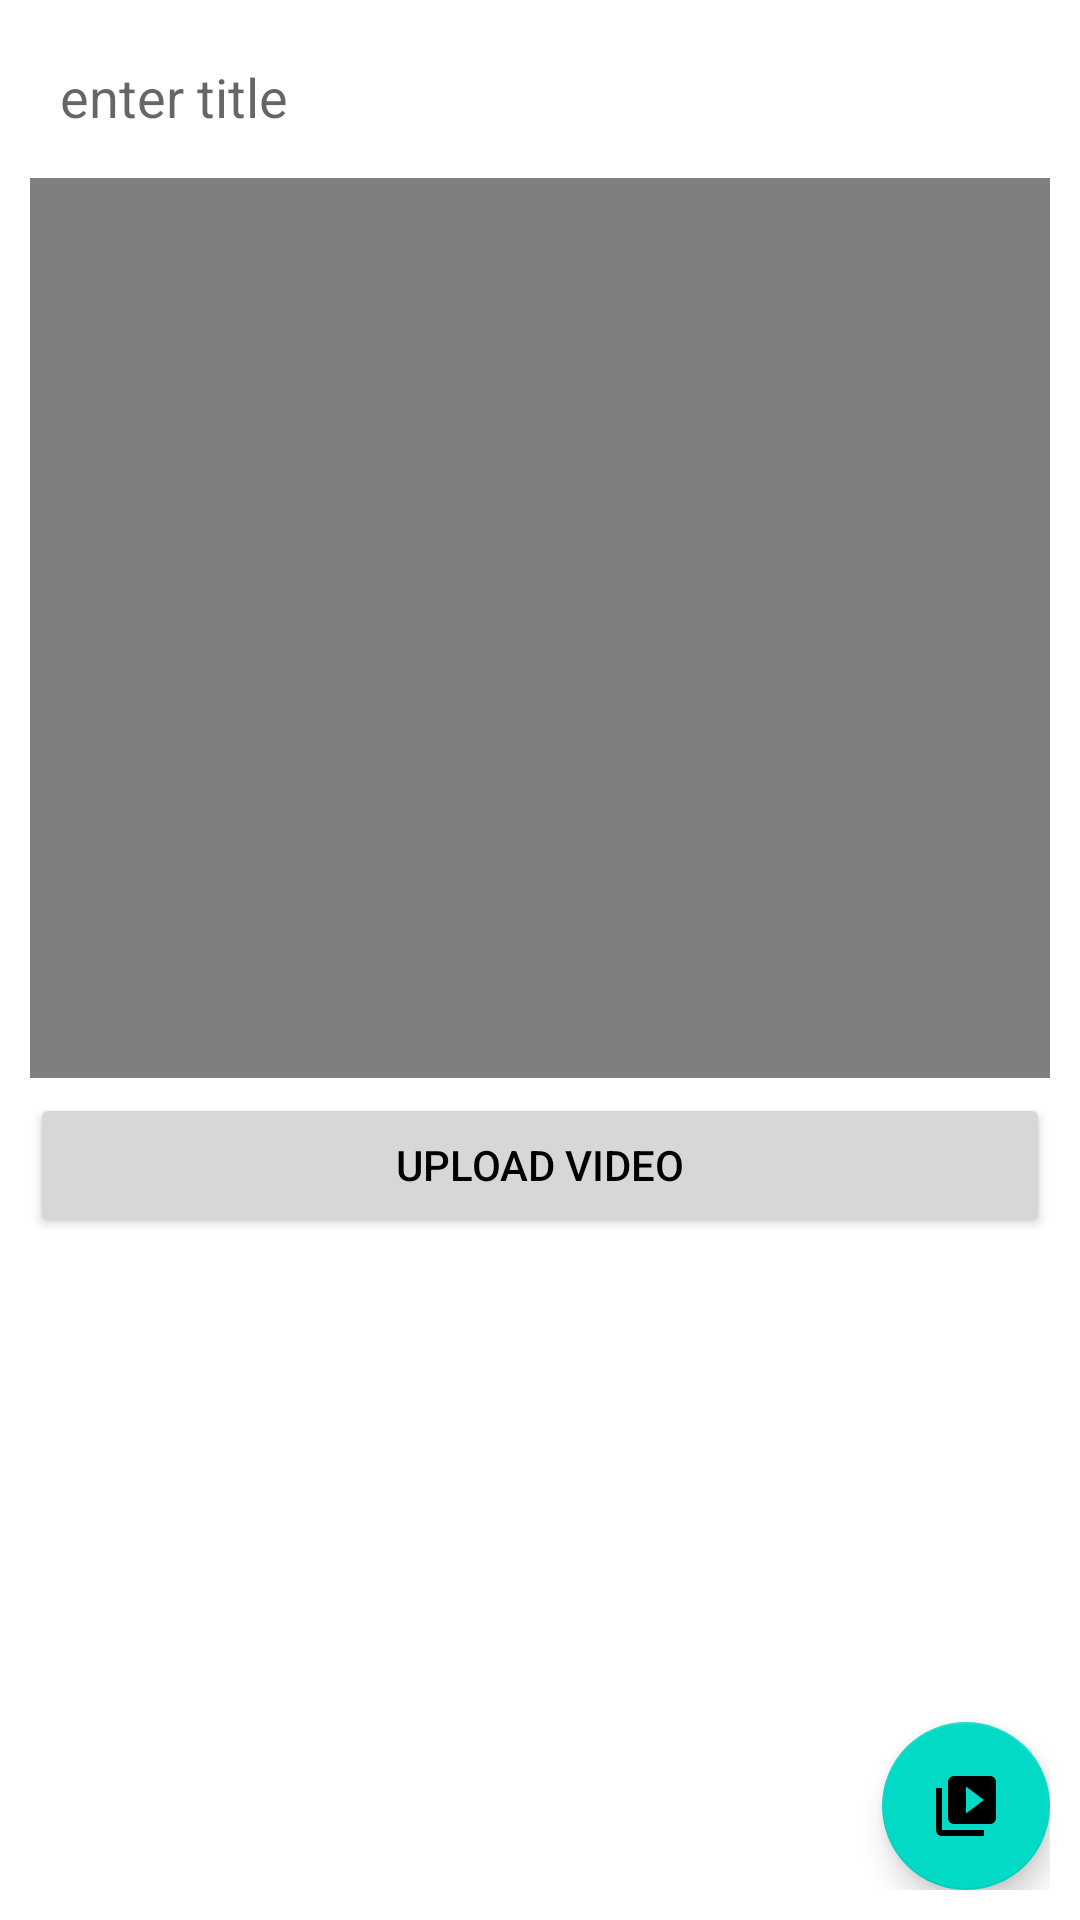

Icons on this 1080w x 1920h Android screen, each with its box as box(x1, y1, x2, y2):
video library: box(882, 1722, 1050, 1890)
